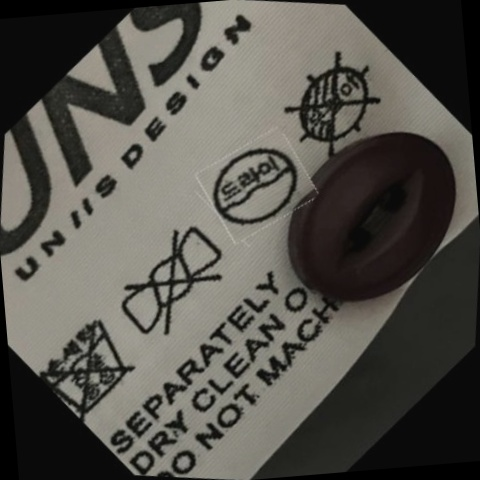DN_dry: (278, 49, 388, 161)
DN_wring: (110, 222, 235, 347)
dry_clean: (207, 135, 307, 238)
hand_wash: (38, 306, 143, 420)
